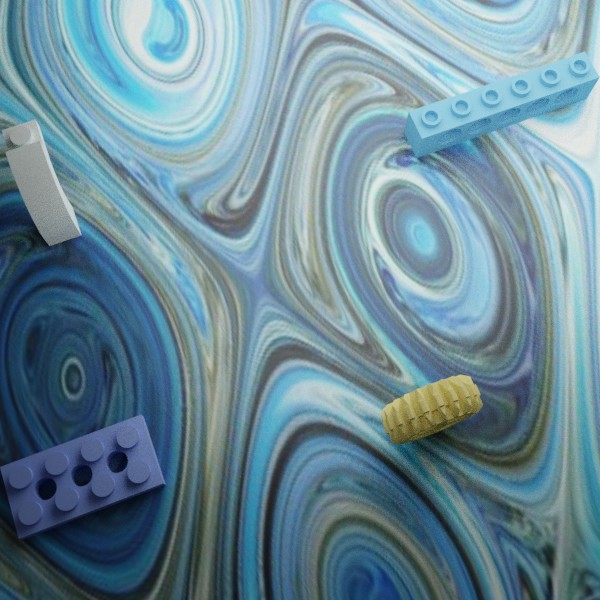lego: (403, 51, 599, 158), (0, 414, 165, 539), (1, 119, 81, 246), (379, 374, 483, 444)
